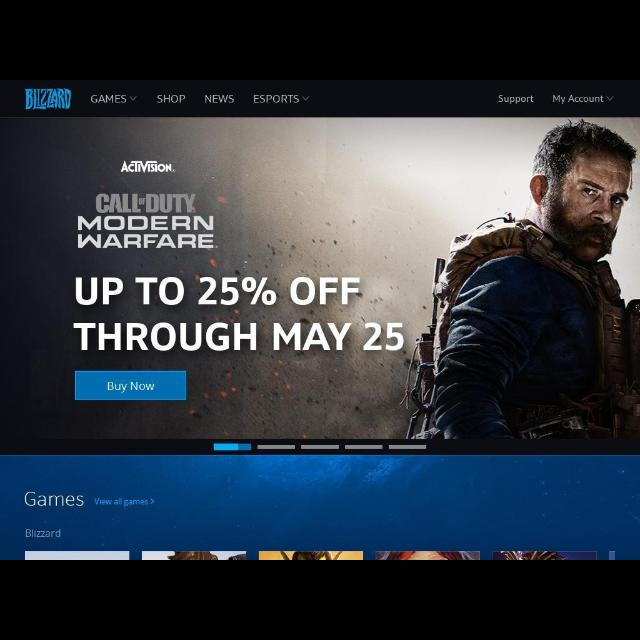backgroundimage: (1, 120, 638, 440), (2, 458, 640, 558)
icon: (301, 96, 309, 102), (130, 95, 136, 101), (606, 96, 614, 100)
image: (23, 88, 72, 110)
pageindicator: (213, 444, 429, 451)
spinner: (554, 94, 614, 104), (252, 94, 310, 104), (89, 94, 137, 105)
text: (74, 277, 406, 353), (23, 489, 82, 509), (94, 498, 154, 506), (553, 95, 603, 104), (254, 95, 298, 104), (90, 95, 126, 104), (498, 96, 534, 104), (26, 529, 62, 537), (204, 95, 234, 103), (158, 95, 185, 103)
textbutton: (74, 374, 186, 401)
toolbar: (0, 80, 638, 116)
